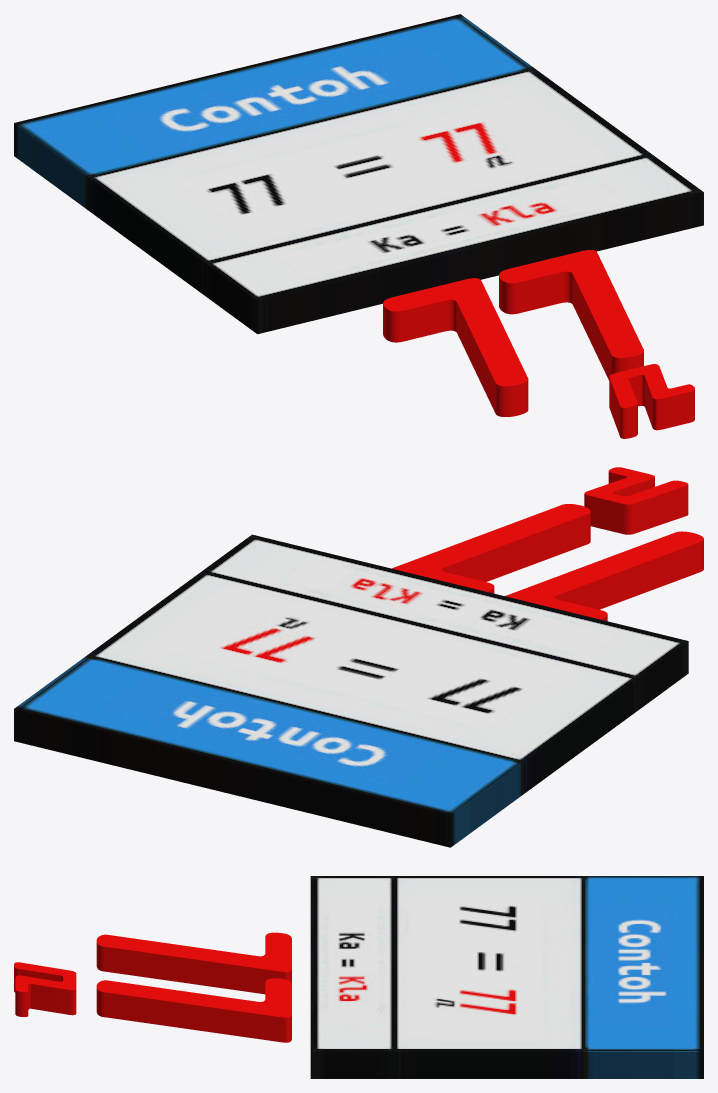
Rendered from kla.fbx.
3 views of the same model, one above another, from view 1: azimuth 30°, elevation 25°; view 2: azimuth 150°, elevation 25°; view 3: azimuth 270°, elevation 25° (orthographic). The views are drawn at different scales.
Parts seen in each view (by area): view 1: contoh-l-Rarangken, Text; view 2: contoh-l-Rarangken, Text; view 3: contoh-l-Rarangken, Text.
Boxes of the visible parts, left/top/right/bottom form: contoh-l-Rarangken: left=14, top=14, right=703, bottom=334; Text: left=383, top=250, right=694, bottom=438; contoh-l-Rarangken: left=14, top=534, right=688, bottom=847; Text: left=392, top=467, right=703, bottom=621; contoh-l-Rarangken: left=310, top=876, right=703, bottom=1078; Text: left=14, top=932, right=291, bottom=1042.
Size of the model in its own units: 1.06 by 0.11 by 1.75.
Materials: 2 (1 with a texture image).
